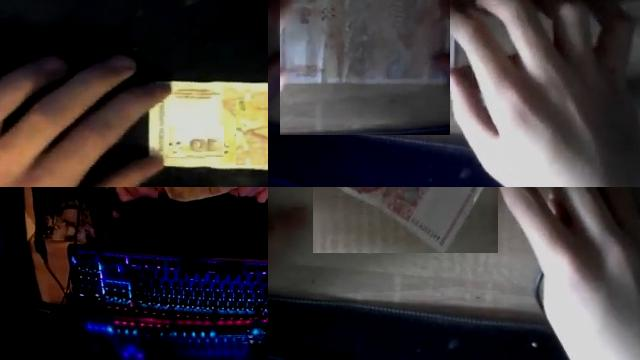10leva: (169, 126, 223, 157), (236, 123, 268, 151)
50leva: (163, 187, 229, 202)
5leva: (280, 0, 450, 135), (334, 187, 486, 253)
